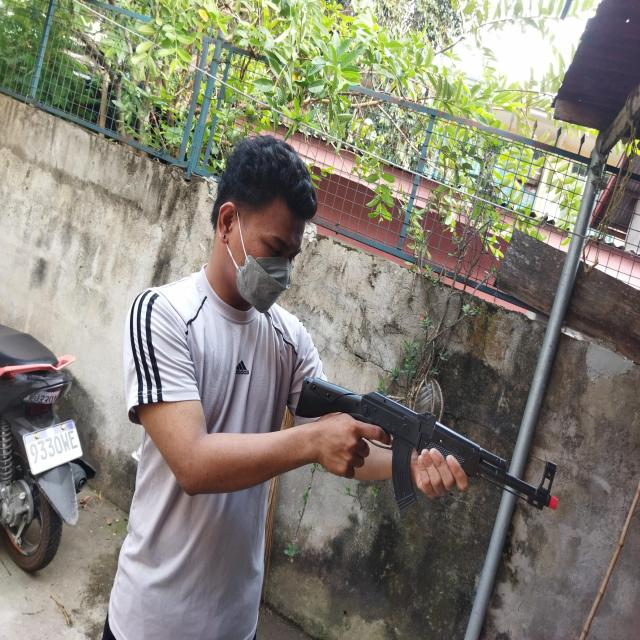rifle: (296, 376, 558, 511)
